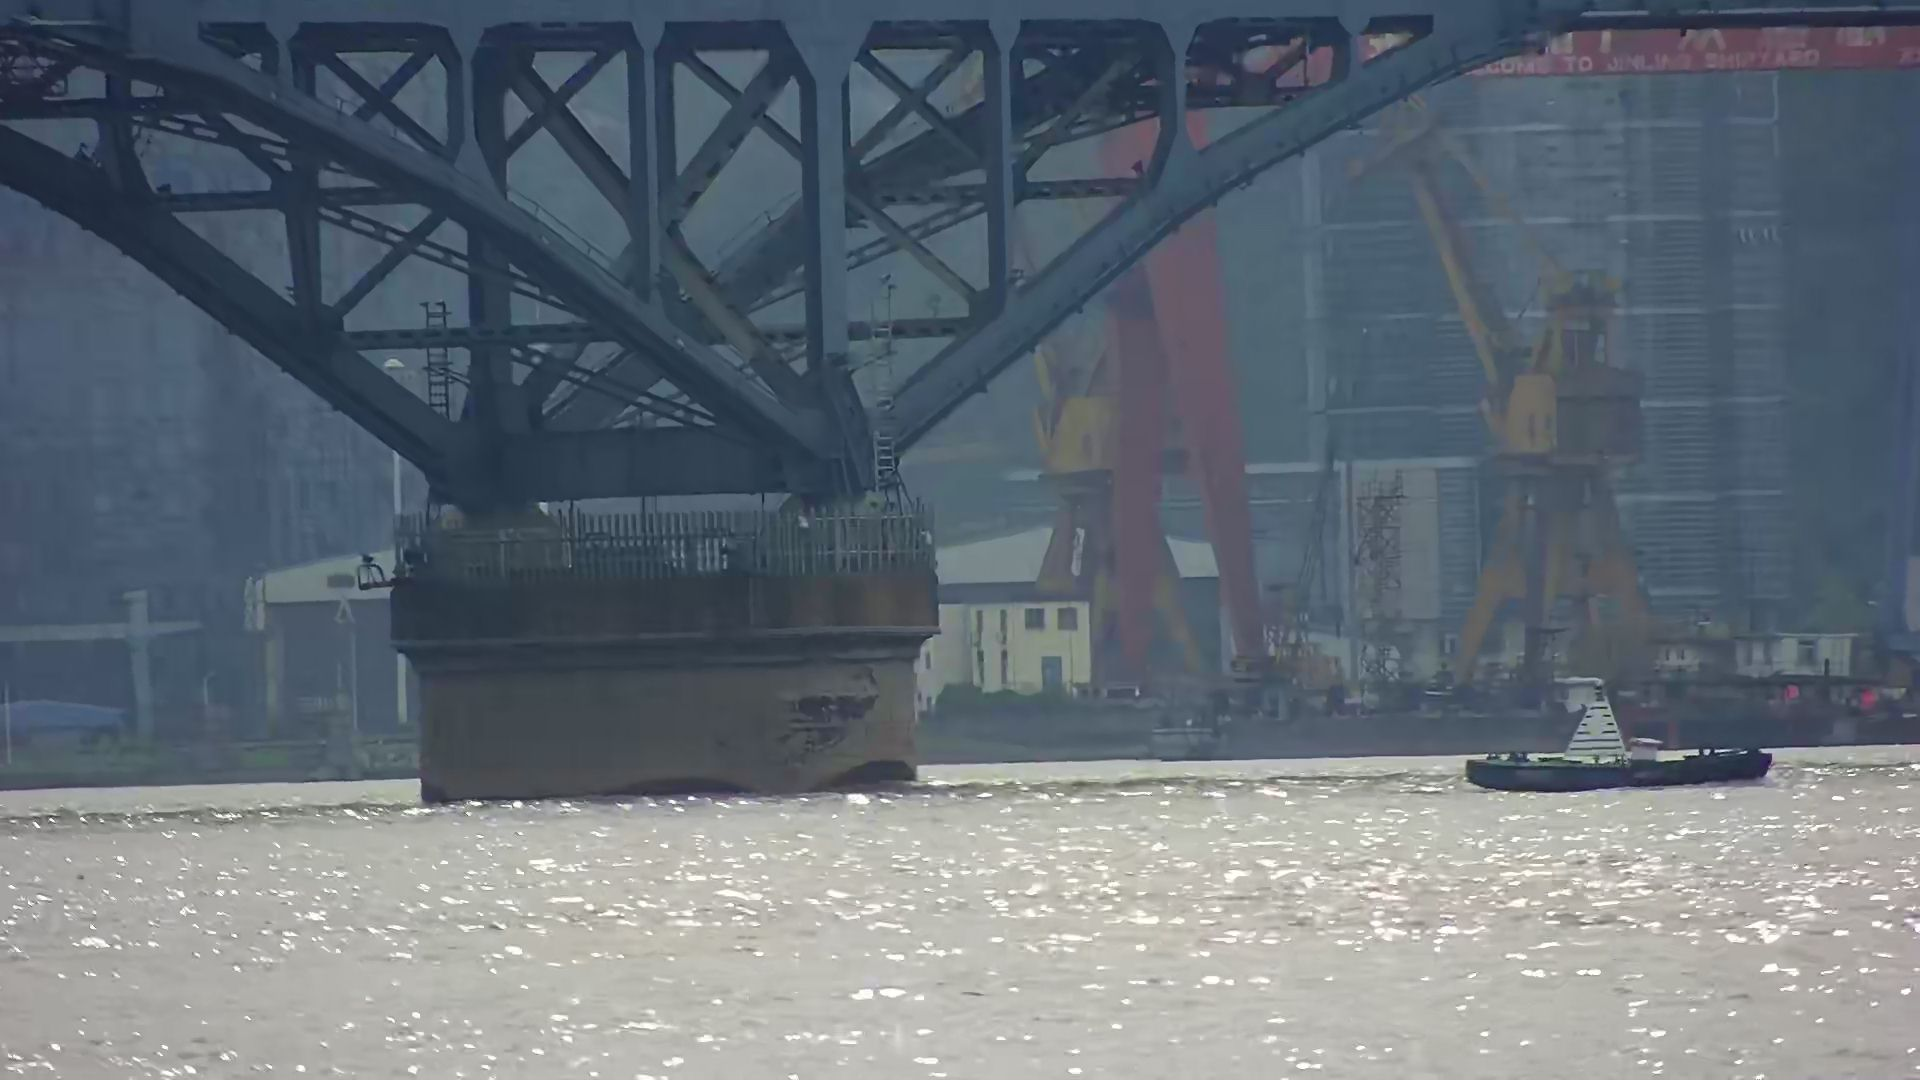boat: (1449, 705, 1782, 793)
bridge: (1, 1, 1563, 810)
